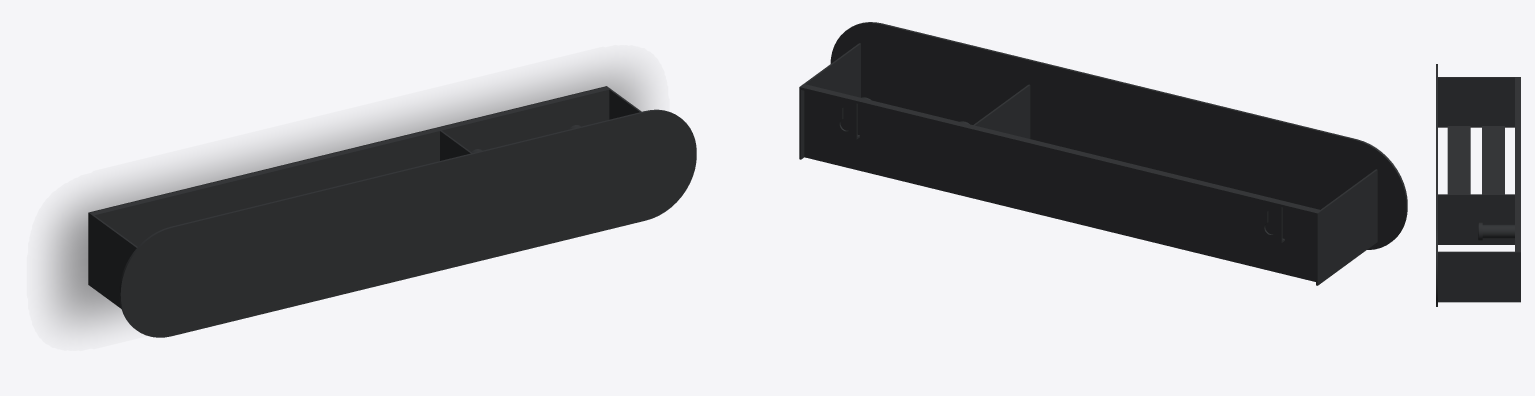
The model's file is round-patron.8efd140bcc.ar.glb.
The picture shows the model from 3 angles, left to right: view 1: azimuth 30°, elevation 25°; view 2: azimuth 150°, elevation 25°; view 3: azimuth 270°, elevation 25°; orthographic projection. The views are drawn at different scales.
Visible parts, largest first — view 1: NAUO1, object 2; view 2: NAUO1; view 3: NAUO1.
Part boxes in pixels (left/top/right/bottom): NAUO1: left=88, top=86, right=696, bottom=337; object 2: left=49, top=70, right=646, bottom=325; NAUO1: left=799, top=22, right=1407, bottom=285; NAUO1: left=1436, top=64, right=1520, bottom=306.
Size of the model in its own units: 0.58 by 0.17 by 0.092.
2 materials, 1 textured.
